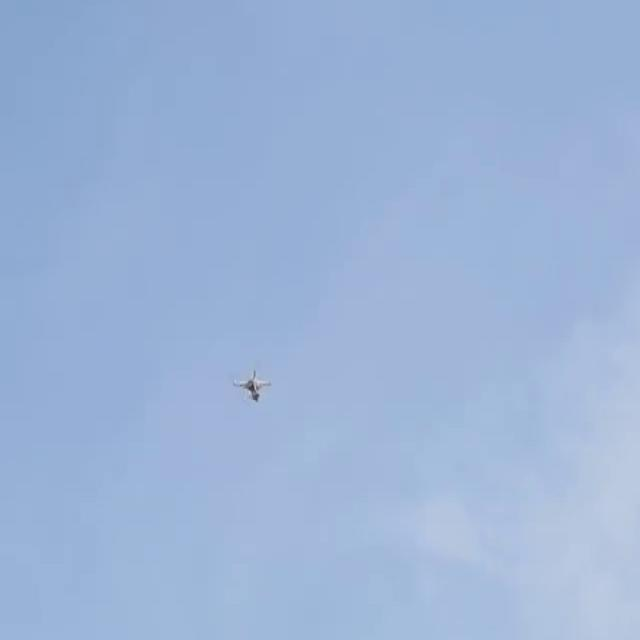drone: (228, 360, 286, 408)
